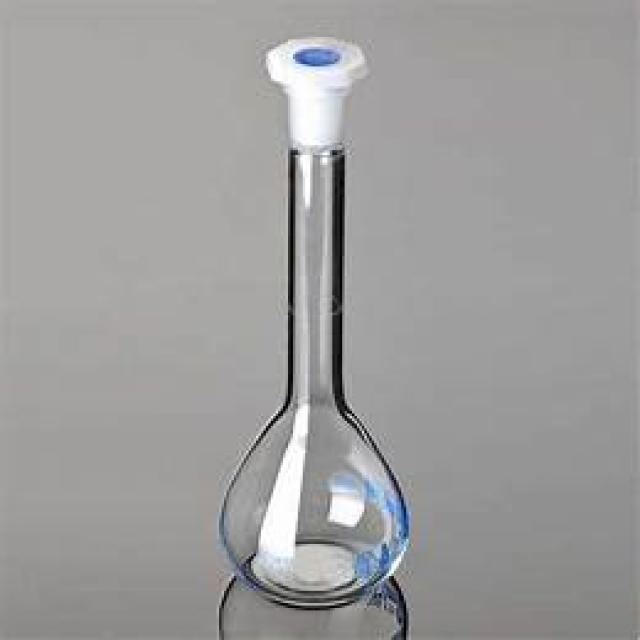Volumetric flask: (213, 28, 421, 600)
